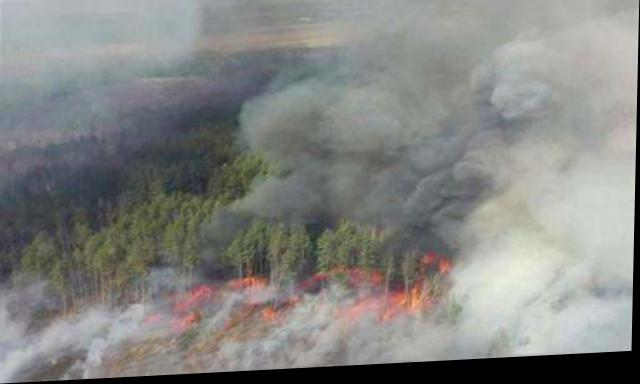fire: (146, 255, 461, 350)
